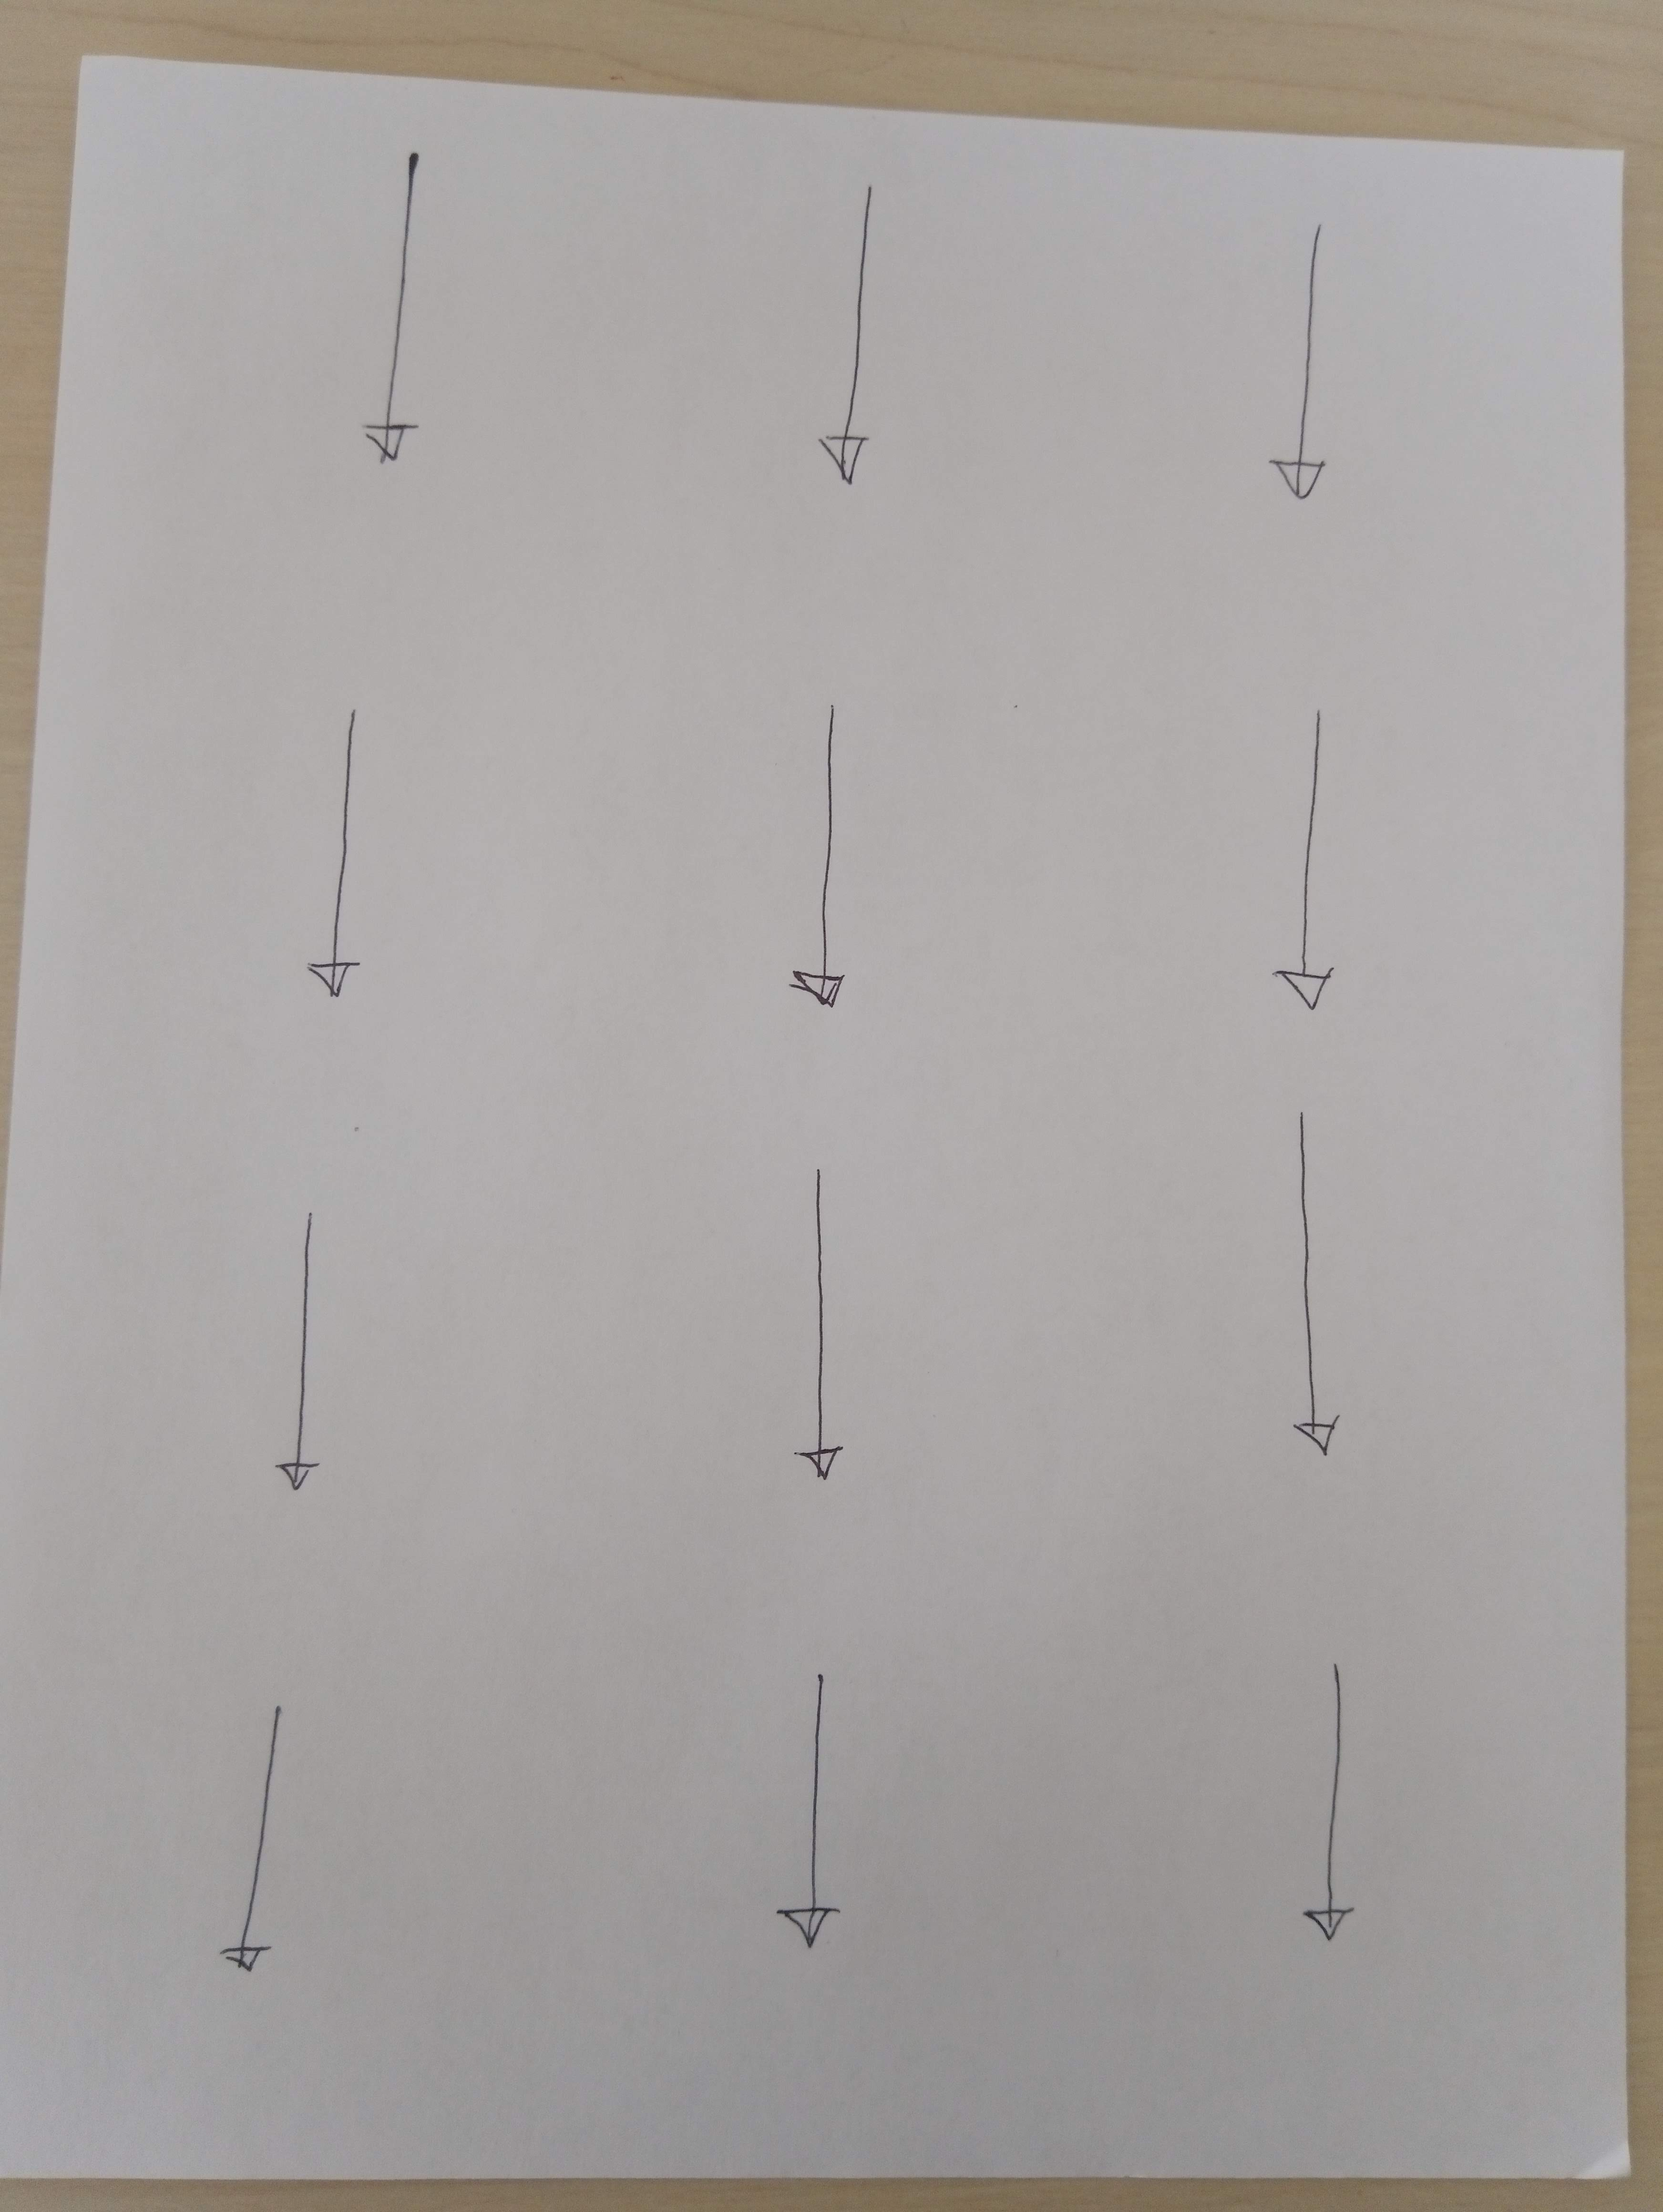arrow_line_down: (1237, 1109, 1387, 1472), (756, 1660, 866, 1957), (767, 1168, 859, 1491), (363, 131, 440, 487), (203, 1700, 300, 1978), (786, 691, 863, 1025), (1273, 702, 1354, 1018), (823, 171, 896, 501), (1296, 1660, 1377, 1957), (306, 698, 376, 1021), (260, 1191, 330, 1510), (1284, 211, 1335, 508)
